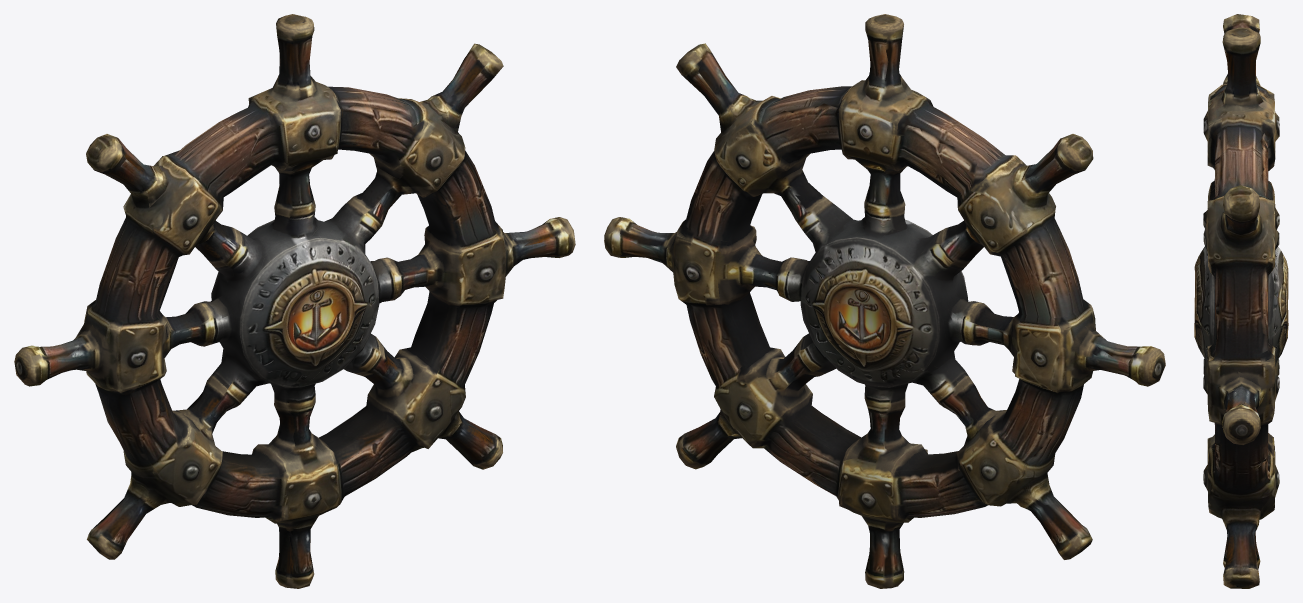
File: helm.glb
3 views of the same model, side by side, from view 1: azimuth 30°, elevation 25°; view 2: azimuth 150°, elevation 25°; view 3: azimuth 270°, elevation 25° (orthographic). The views are drawn at different scales.
Visible parts, largest first — view 1: ShipWheel; view 2: ShipWheel; view 3: ShipWheel.
Part boxes in pixels (bbox=[...]): ShipWheel: bbox=[14, 14, 575, 588]; ShipWheel: bbox=[604, 14, 1165, 588]; ShipWheel: bbox=[1194, 14, 1288, 588].
Size of the model in its own units: 1.02 by 1 by 0.1579.
Materials: 1 (1 with a texture image).
